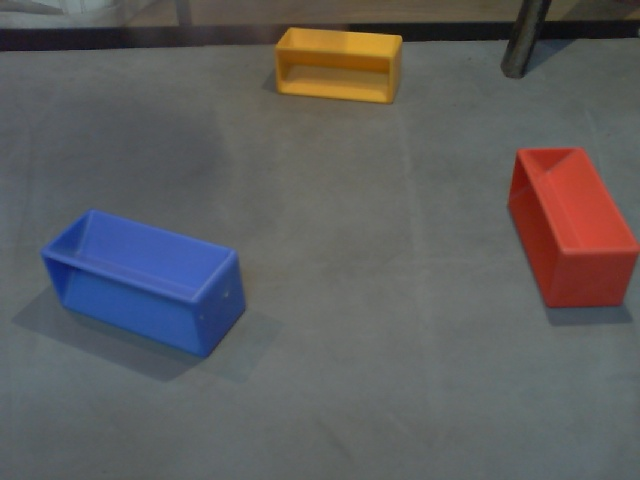BlueSample: (38, 206, 251, 362)
RedSample: (505, 144, 640, 310)
YellowSample: (270, 22, 407, 107)
